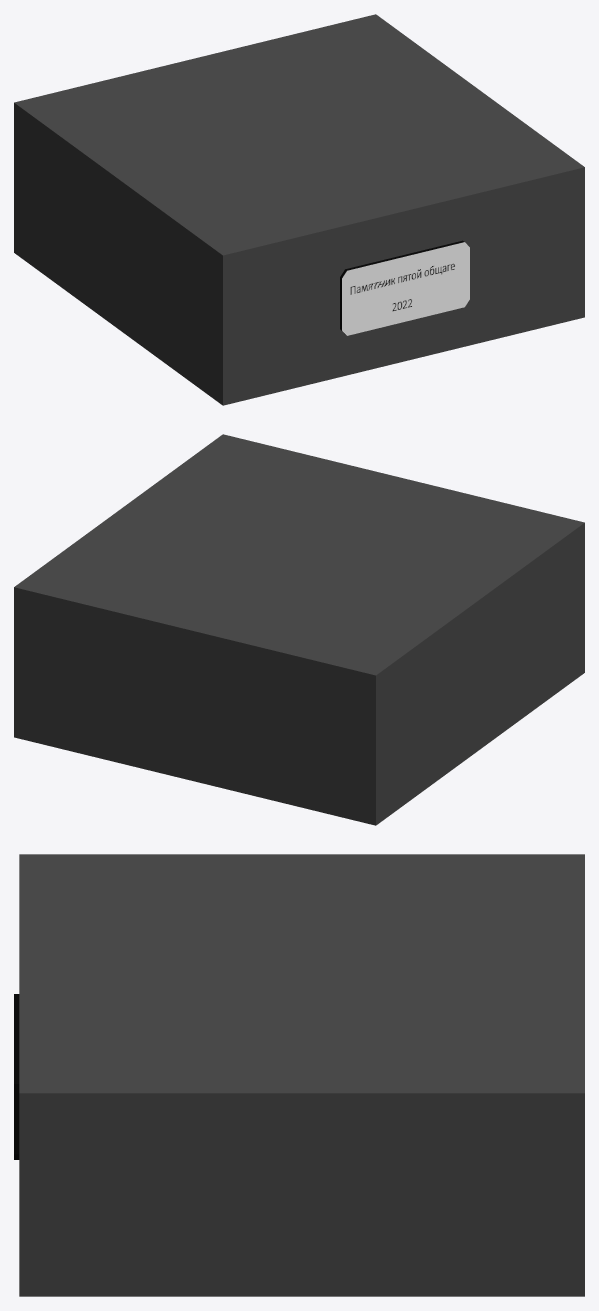
File: stoika.fbx
3 renders of one model, top to bottom at view 1: azimuth 30°, elevation 25°; view 2: azimuth 150°, elevation 25°; view 3: azimuth 270°, elevation 25°, orthographic. The views are drawn at different scales.
Visible parts, largest first — view 1: Cube, Cube.001; view 2: Cube; view 3: Cube, Cube.001.
Part boxes in pixels (left/top/right/bottom): Cube: left=14, top=14, right=584, bottom=405; Cube.001: left=340, top=240, right=469, bottom=335; Cube: left=14, top=434, right=584, bottom=825; Cube: left=19, top=854, right=584, bottom=1296; Cube.001: left=14, top=994, right=19, bottom=1159.
Bounding box in the file's own units: 395 × 157 × 399.
